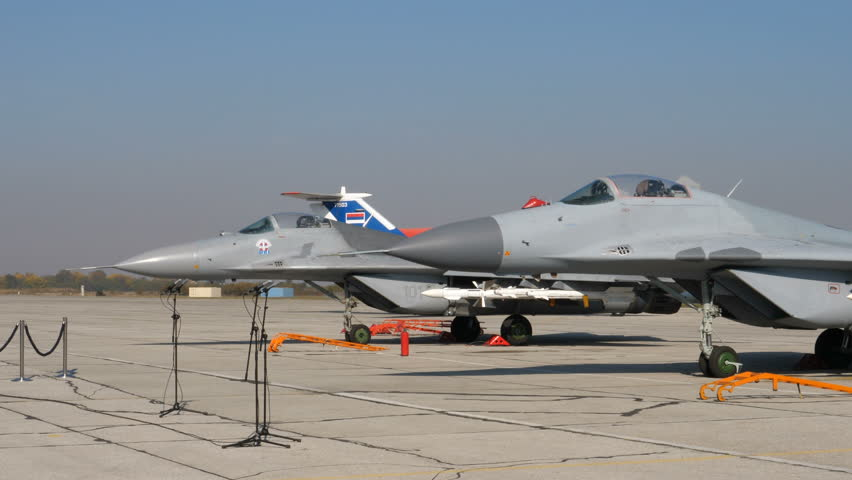Mig-29: (362, 149, 852, 384), (105, 124, 391, 365)
